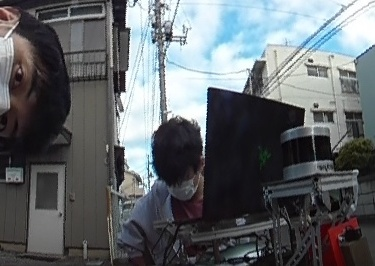person: (110, 116, 202, 266)
